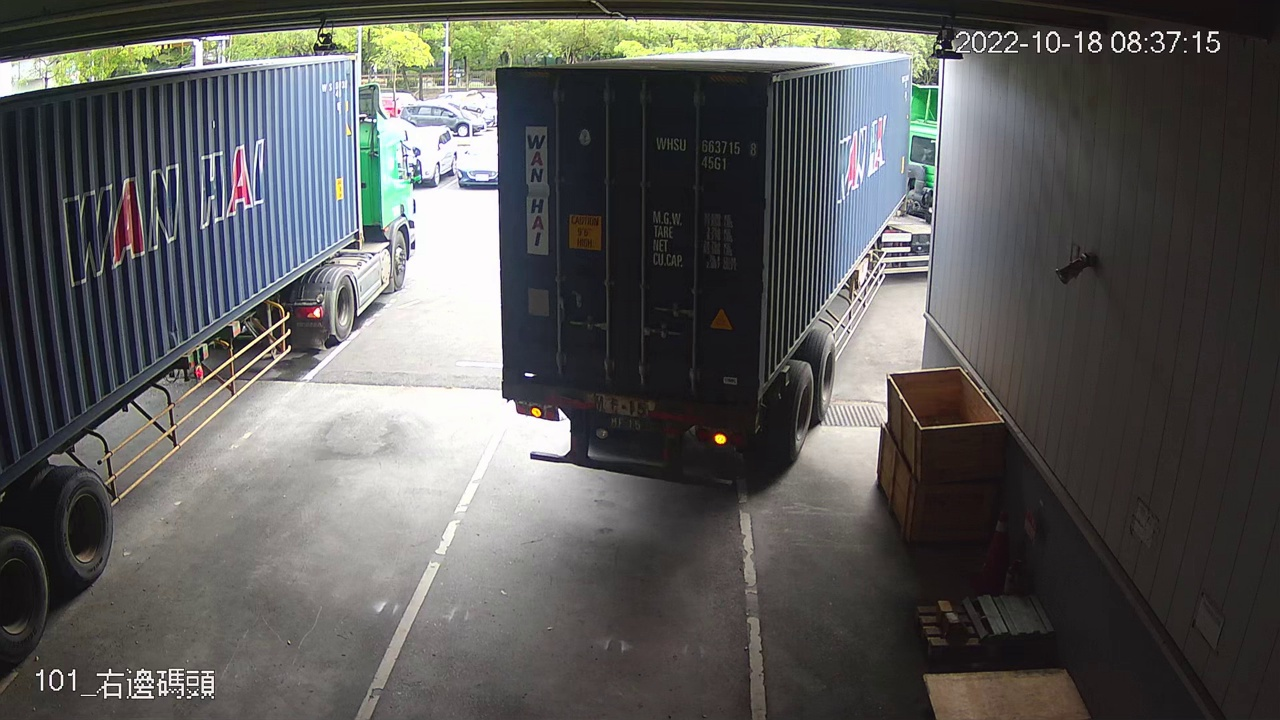container: (649, 130, 760, 175)
